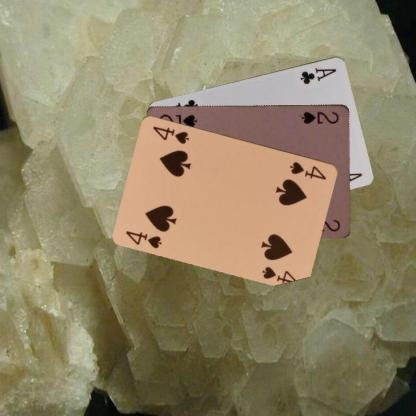2s: (299, 108, 340, 124)
4s: (123, 228, 164, 250), (288, 159, 328, 181)
Ac: (298, 64, 338, 86)
